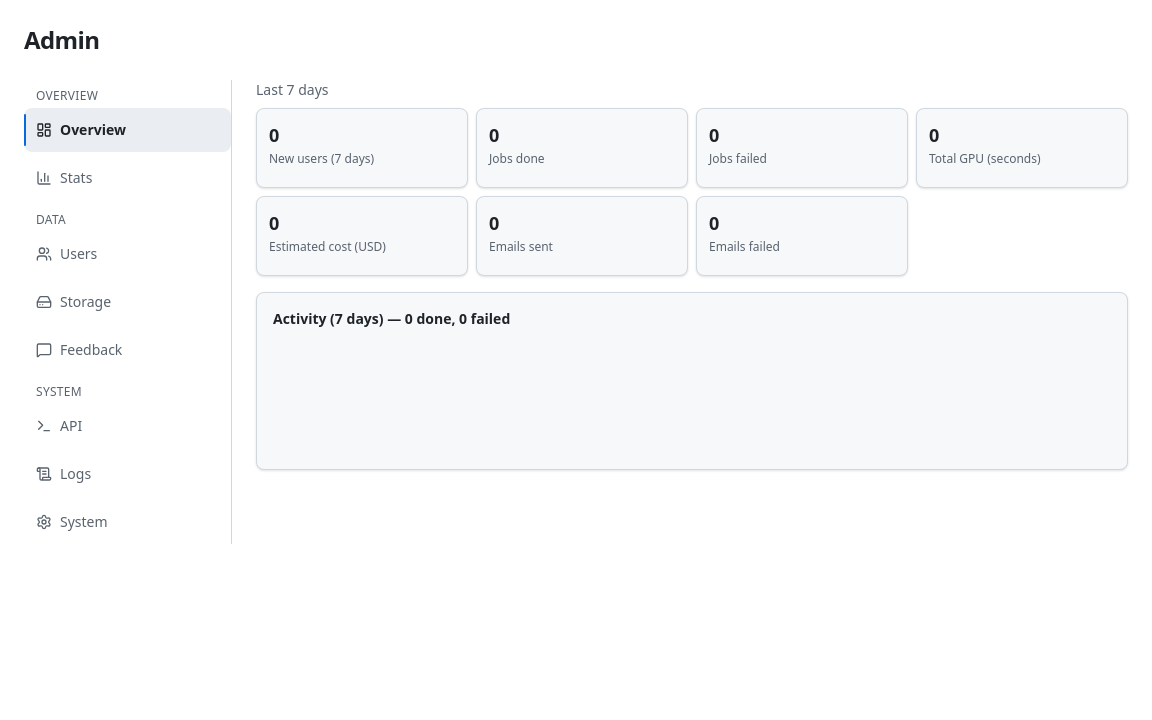
Test: clicking rail users item mounts AdminUsers
Click the button with test id "tab-users" at (128, 254), box [24,232,231,276]
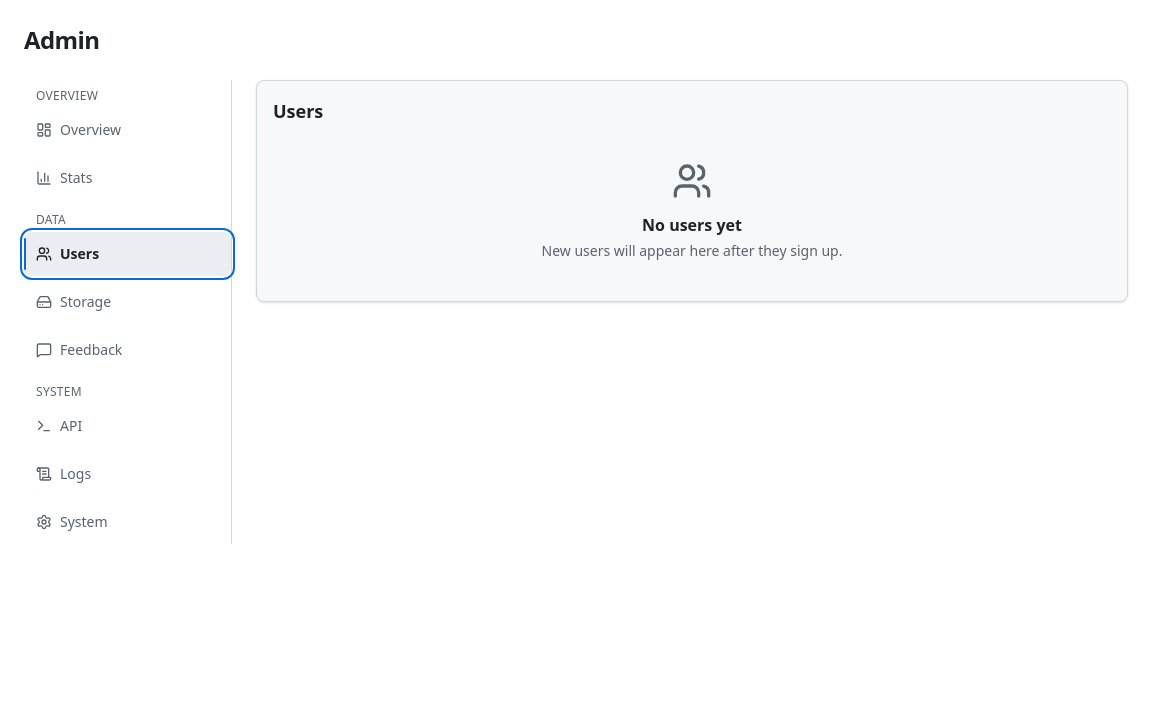
expect the heading "No users yet" is shown: met, box [642,213,742,237]
